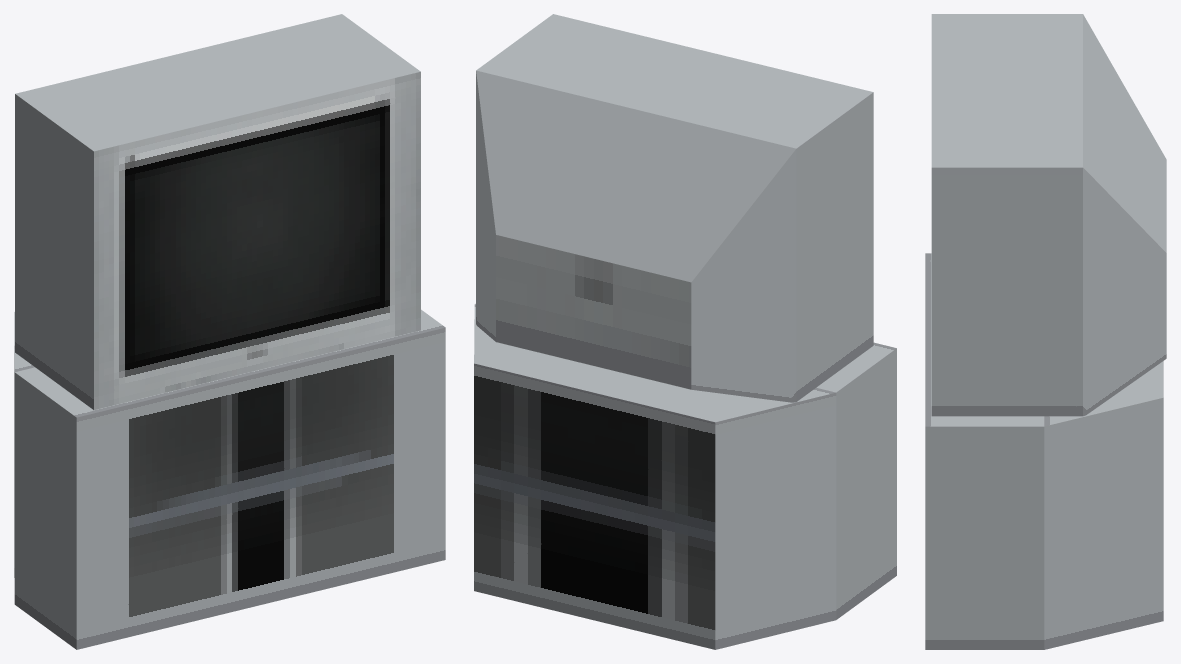
File: television.fbx
3 views of the same model, side by side, from view 1: azimuth 30°, elevation 25°; view 2: azimuth 150°, elevation 25°; view 3: azimuth 270°, elevation 25° (orthographic). The views are drawn at different scales.
Parts seen in each view (by area): view 1: tv; view 2: tv; view 3: tv.
Part boxes in pixels (x1,y1,x2,y2): tv: [14, 14, 445, 649]; tv: [474, 14, 896, 649]; tv: [925, 14, 1166, 649].
Bounding box in the file's own units: 101 × 129 × 59.78.
